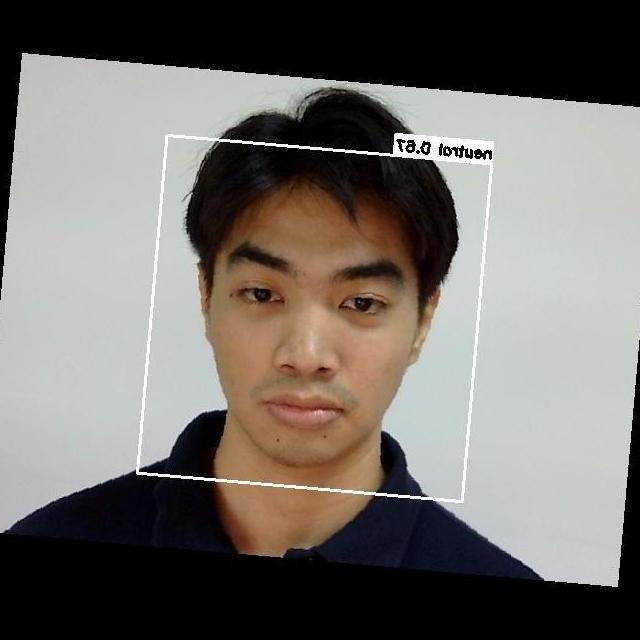Fear: (198, 219, 421, 447)
